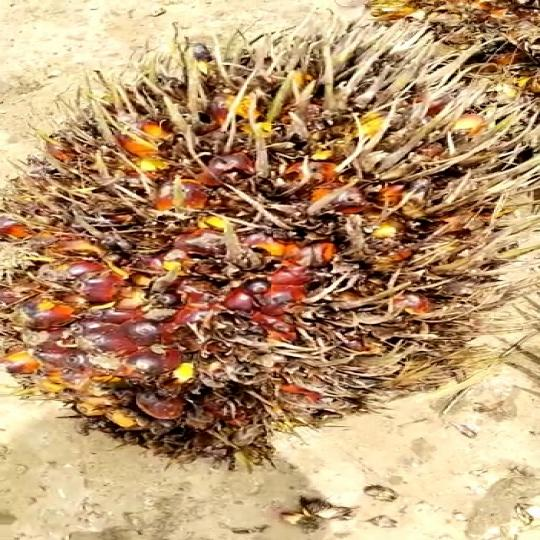terlalu masak: (0, 29, 540, 465)
